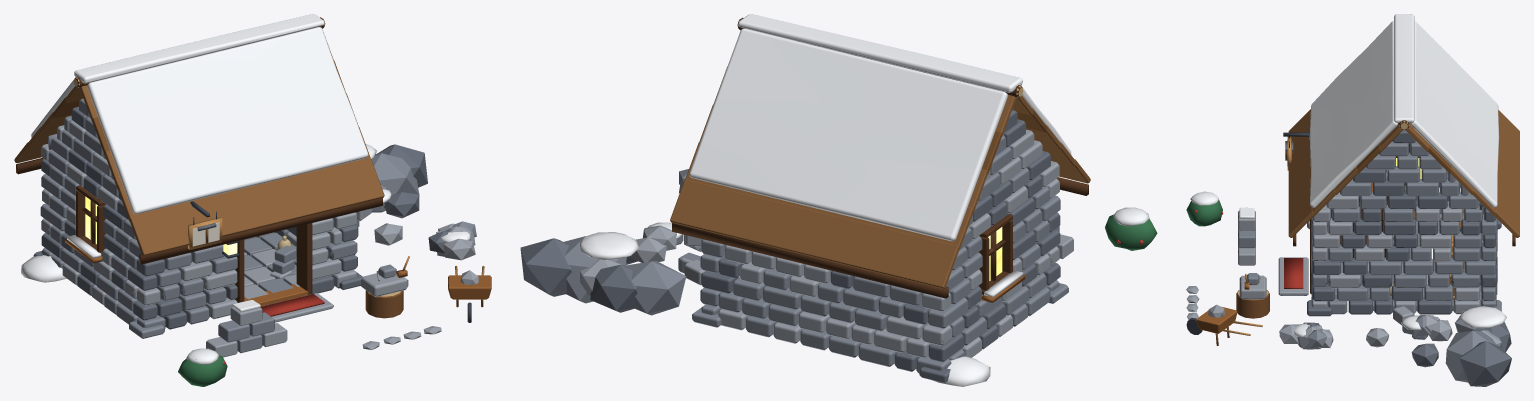
File: quarry.glb
3 views of the same model, side by side, from view 1: azimuth 30°, elevation 25°; view 2: azimuth 150°, elevation 25°; view 3: azimuth 270°, elevation 25° (orthographic). The views are drawn at different scales.
Visible parts, largest first — view 1: roof, walls, exterior, floor, walls_low, interior; view 2: roof, walls, exterior, walls_low; view 3: roof, walls, exterior, floor, walls_low.
Boxes of the visible parts, x1,y1,x2,y2 form: roof: (14,14,384,264); walls: (33,144,362,338); exterior: (21,143,491,386); floor: (244,232,333,322); walls_low: (41,224,354,303); interior: (270,235,296,280); roof: (670,14,1090,298); walls: (692,161,1068,382); exterior: (520,169,1157,386); walls_low: (702,253,1059,343); roof: (1288,14,1519,246); walls: (1283,131,1501,316); exterior: (1186,191,1511,386); floor: (1278,221,1481,310); walls_low: (1310,260,1497,293).
Bounding box in the file's own units: 6.88 × 4.06 × 5.52.
